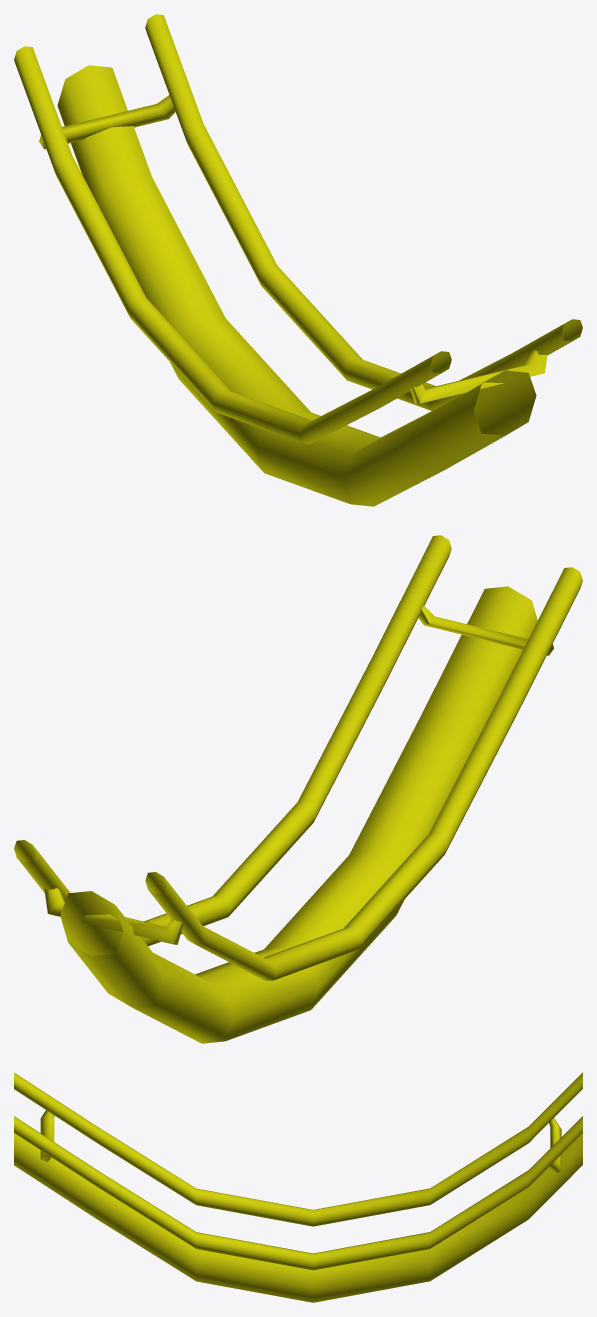
3 renders of one model, top to bottom at view 1: azimuth 30°, elevation 25°; view 2: azimuth 150°, elevation 25°; view 3: azimuth 270°, elevation 25°, orthographic. The views are drawn at different scales.
Visible parts, largest first — view 1: Mesh; view 2: Mesh; view 3: Mesh.
Boxes of the visible parts, x1,y1,x2,y2 form: Mesh: (14, 14, 582, 506); Mesh: (14, 535, 582, 1043); Mesh: (14, 1072, 582, 1302).
Bounding box in the file's own units: 67.06 × 125 × 312.
